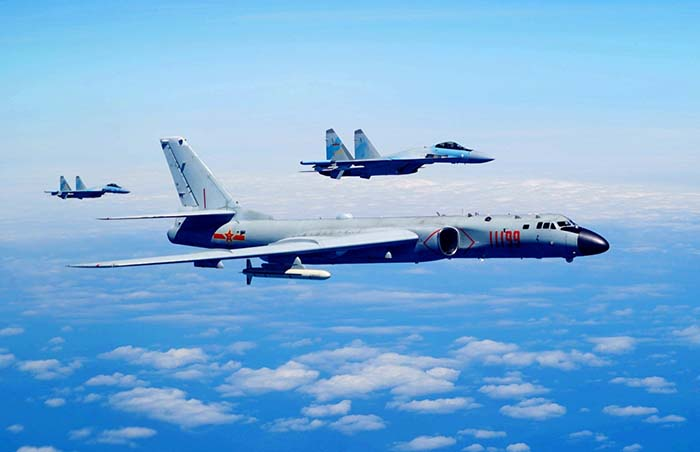airplane: (67, 133, 611, 281), (298, 127, 498, 191), (41, 173, 130, 202)
